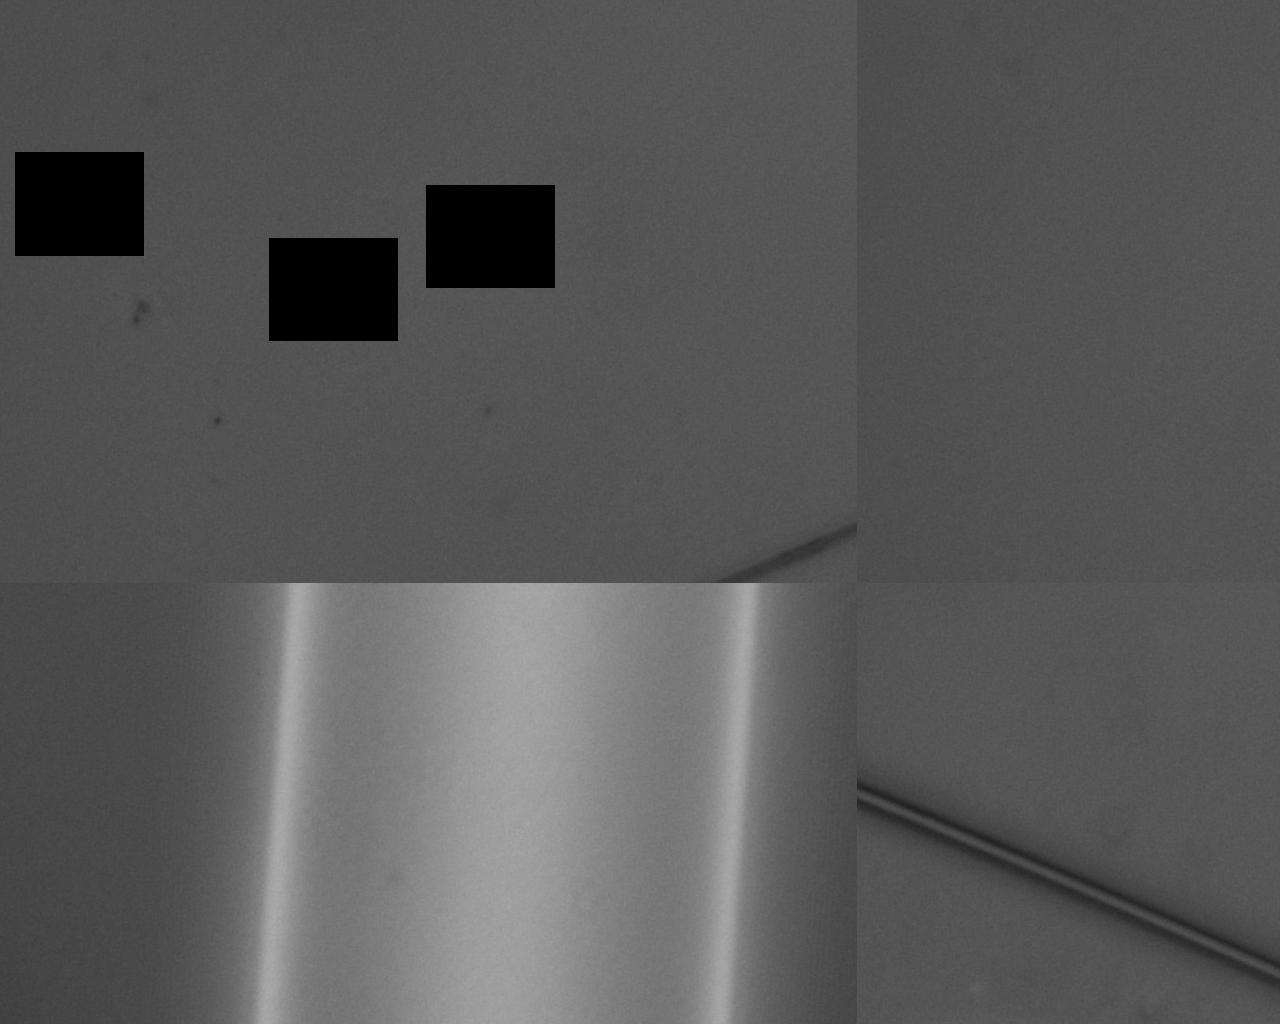fiber: (127, 472, 1151, 649)
